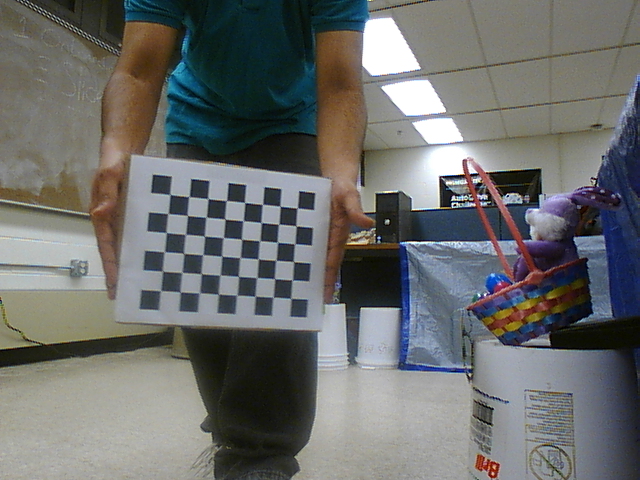bunny: (448, 152, 612, 347)
